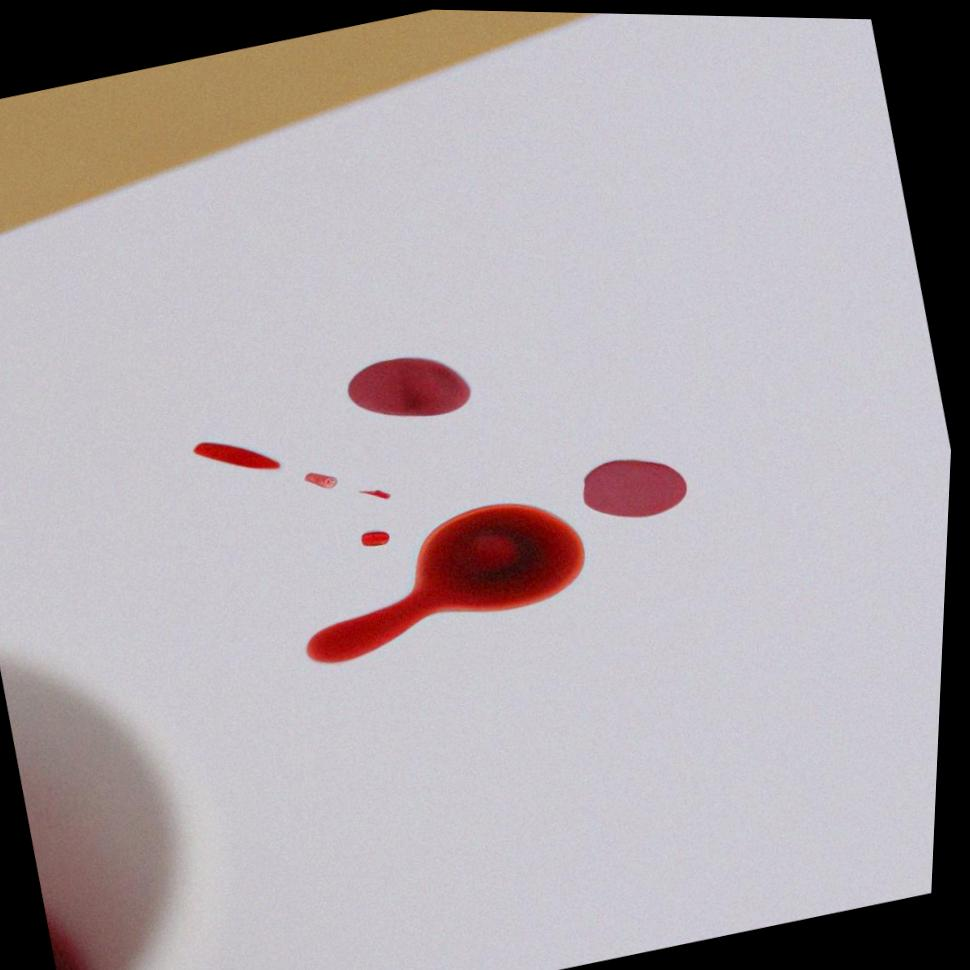Fire: (312, 499, 591, 660), (351, 354, 475, 414), (587, 455, 692, 514), (197, 440, 285, 468), (366, 528, 395, 544)
